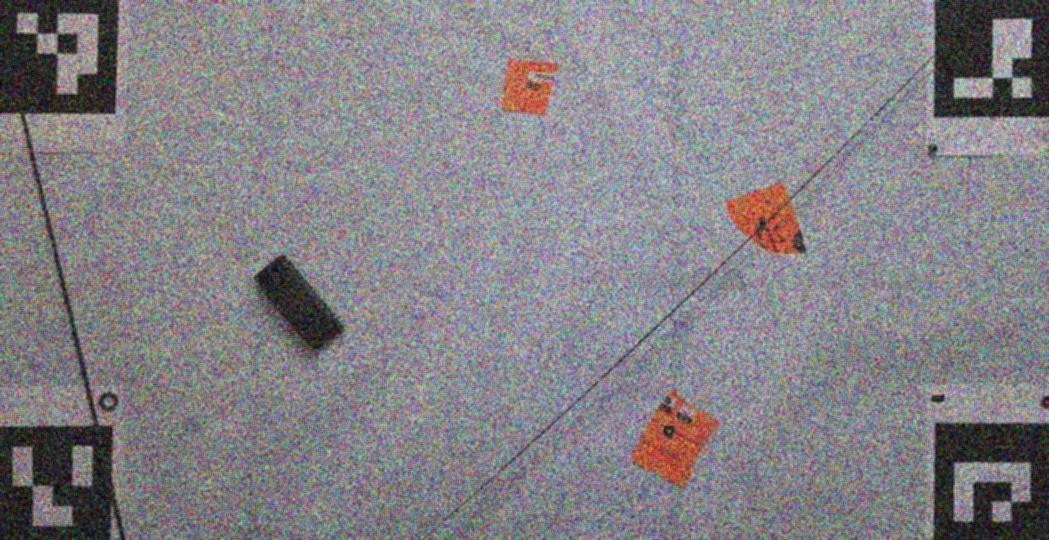obstacle: (255, 254, 344, 355), (632, 387, 719, 488), (725, 181, 807, 255), (499, 56, 558, 117)
